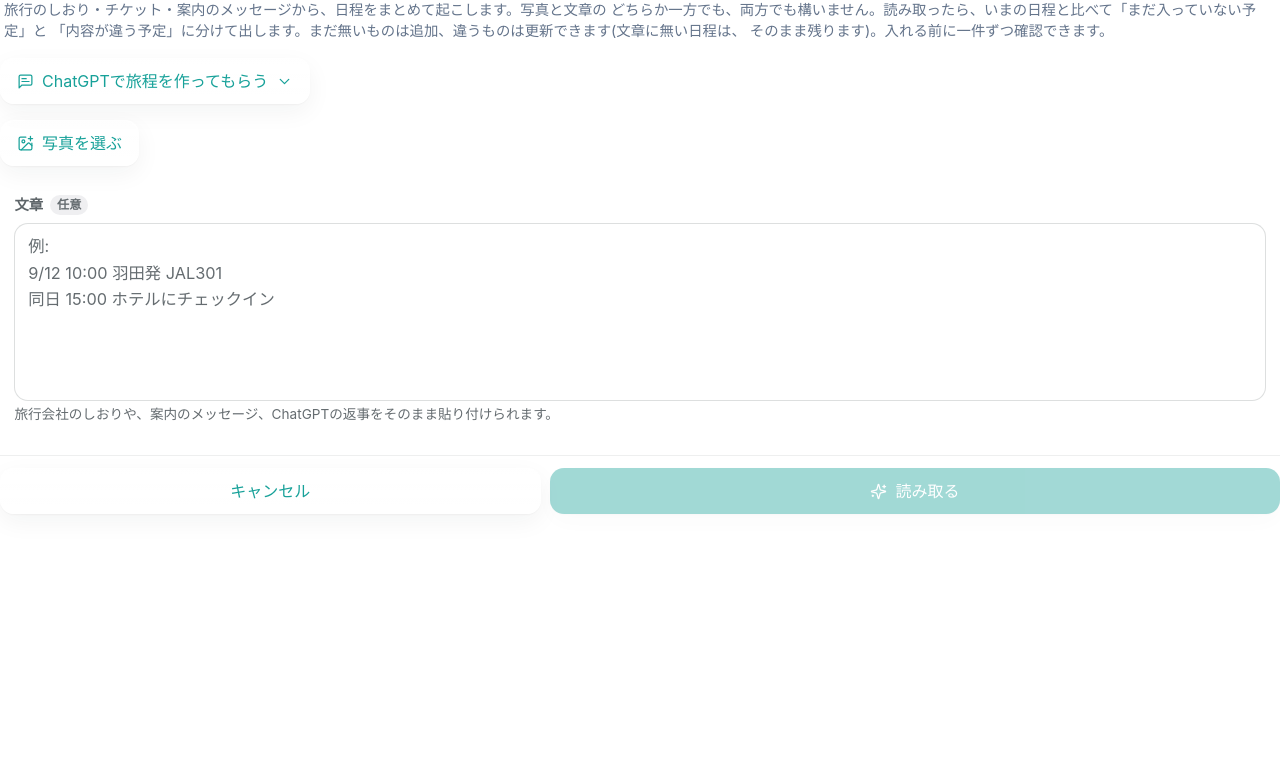
Test: 写真・文章から日程を読み取る画面 › 読み取った内容を、そのまま保存せず確認させる
In the text box with placeholder "例: 9/12 10:00 羽田発 JAL301 同日 15:00 ホテルにチェックイン": (640, 312) [14,222,1266,401], type "9/12 10:00 羽田発"
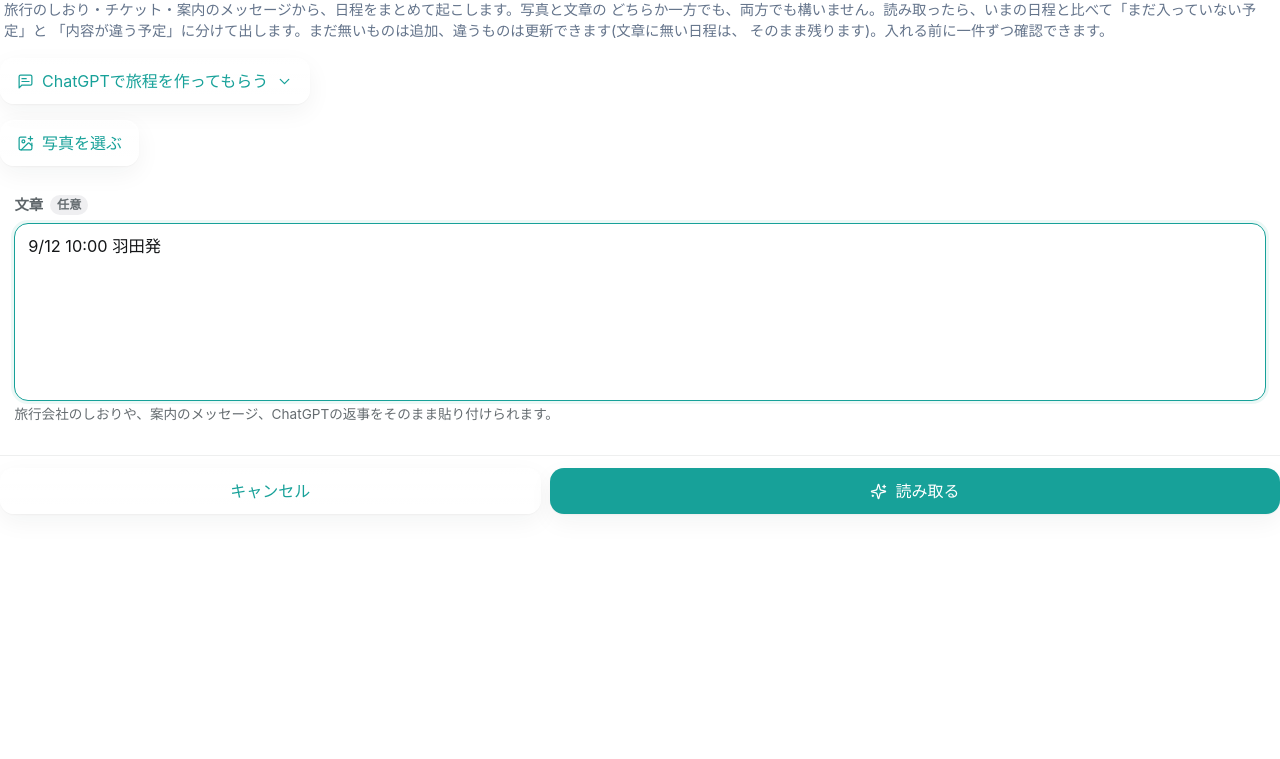
Click the button "読み取る": (915, 490) [550,468,1279,514]
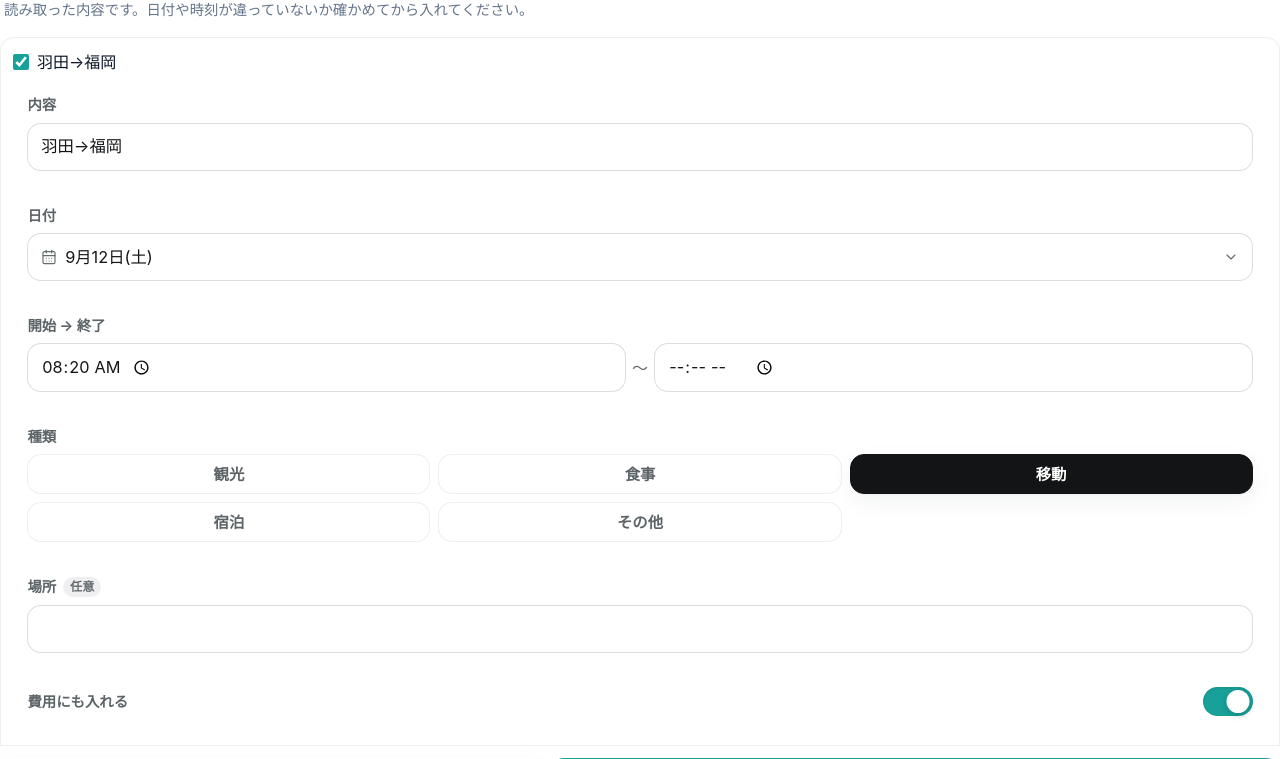
Expected: the field showing "羽田→福岡" is shown, [27,123,1253,171]
